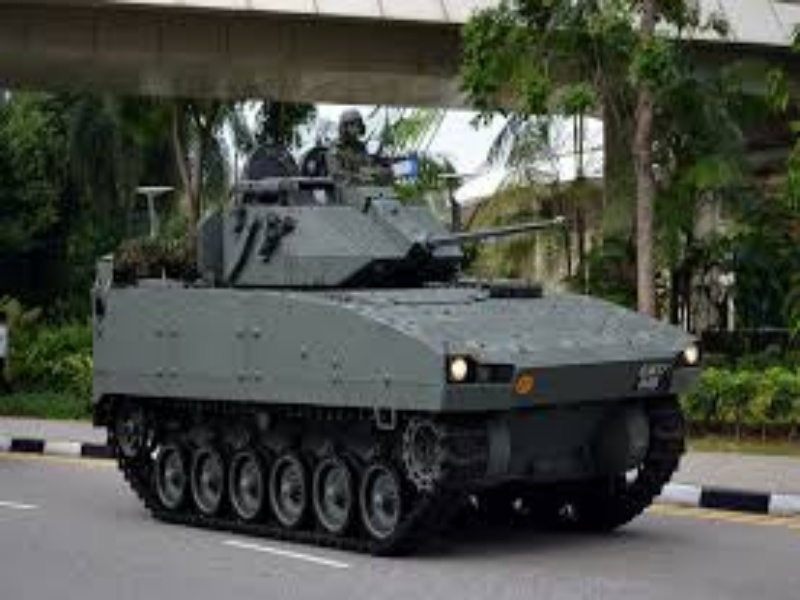tank: (73, 108, 709, 563)
